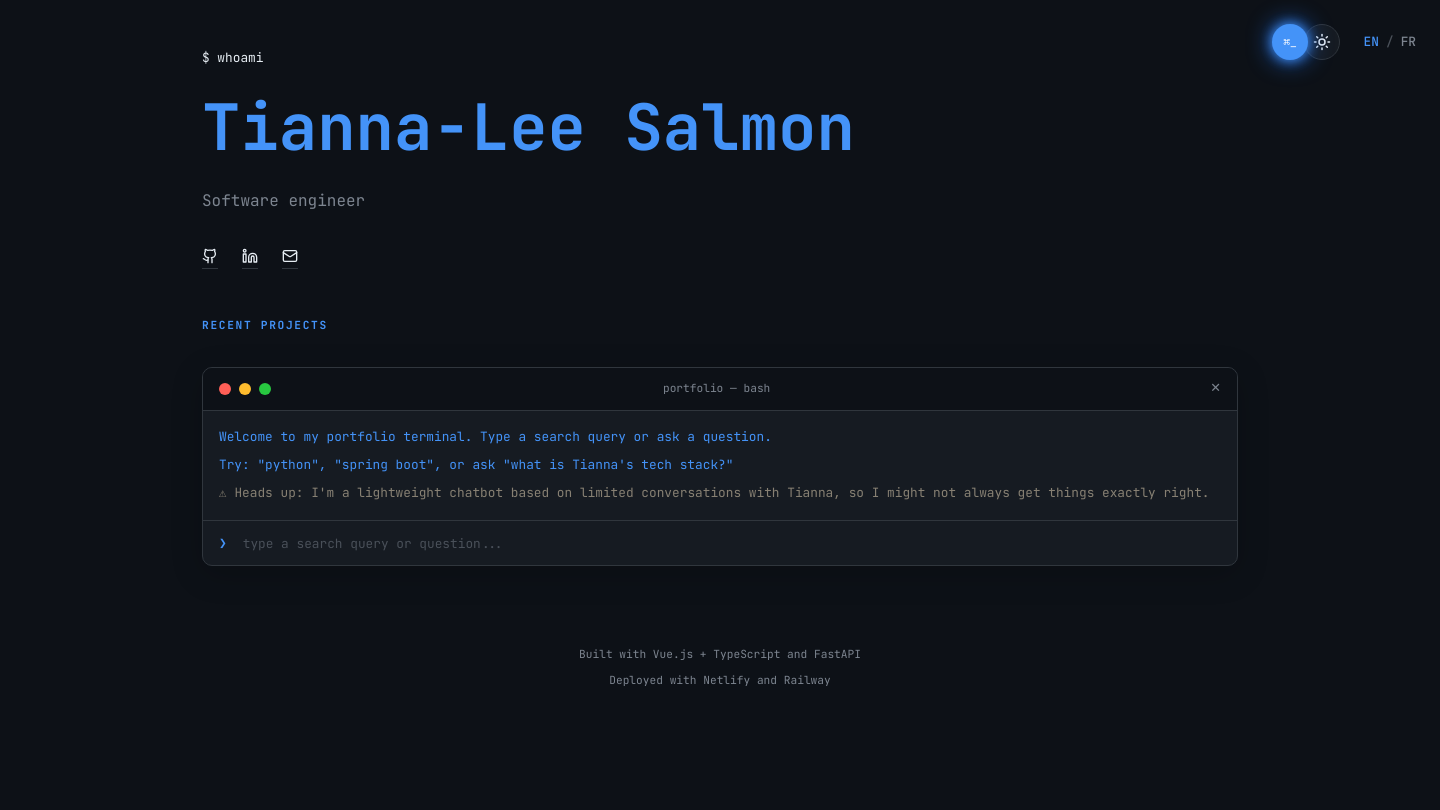
Test case: App › lets visitors retry when the chatbot is unavailable
Type "Bonjour" into the field with class "terminal__input".
click(732, 543); type("Bonjour")  # box [243, 535, 1221, 552]
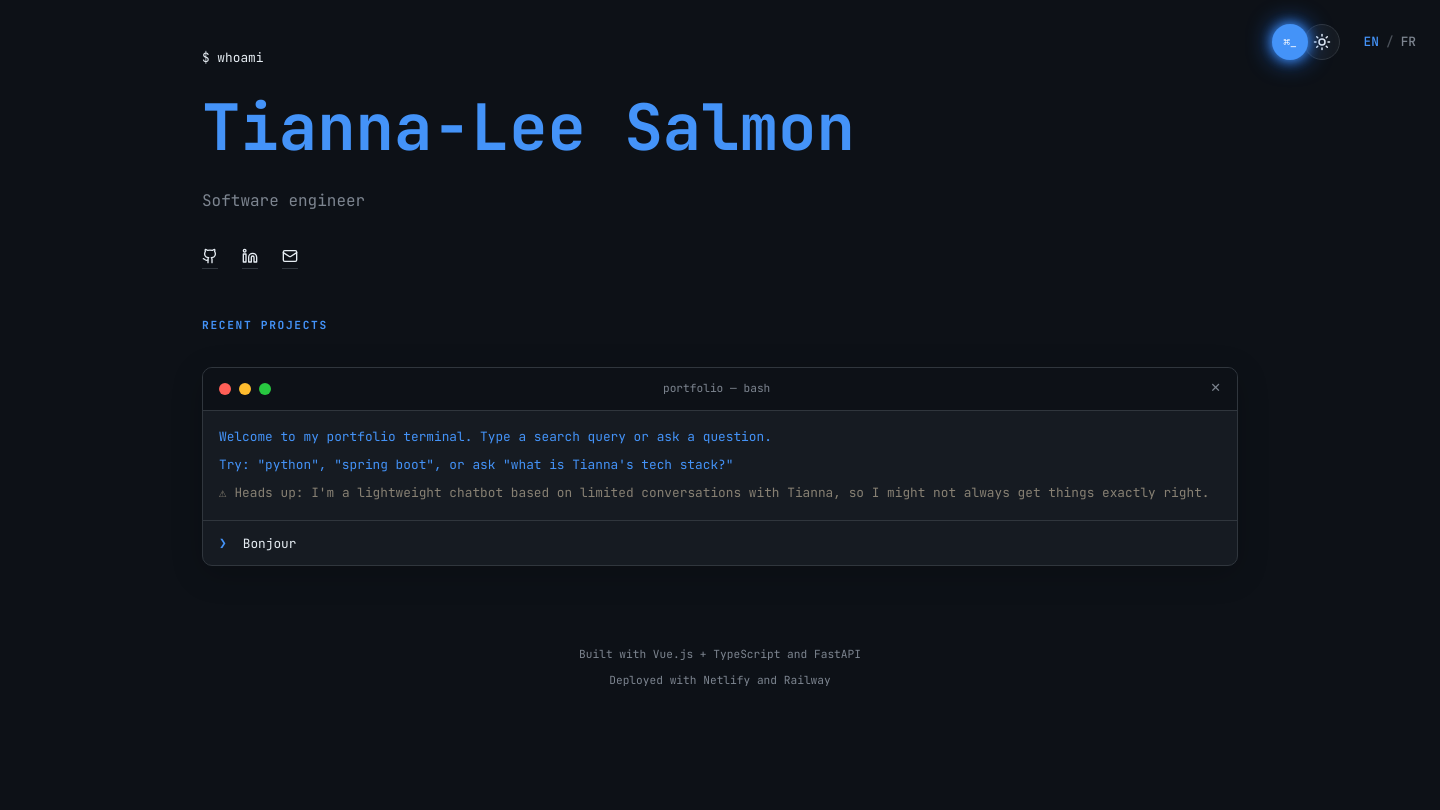
Press Enter in the field with class "terminal__input", box [243, 535, 1221, 552]
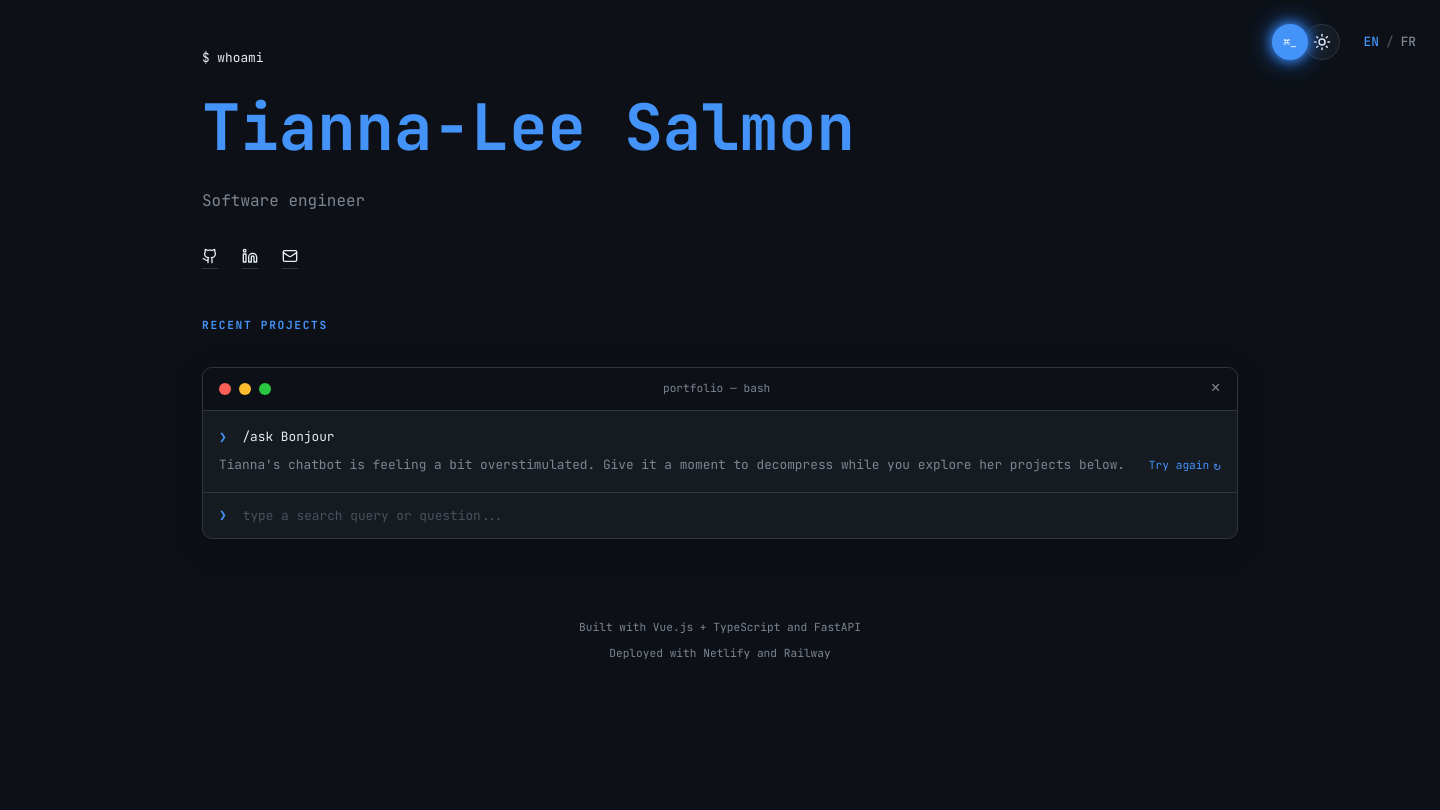
Now the text "feeling a bit overstimulated" is shown, box [219, 456, 1125, 473]
Now the button with class "terminal__retry" is shown
Click the button with class "terminal__retry".
click(1185, 466)  # box [1149, 456, 1221, 476]
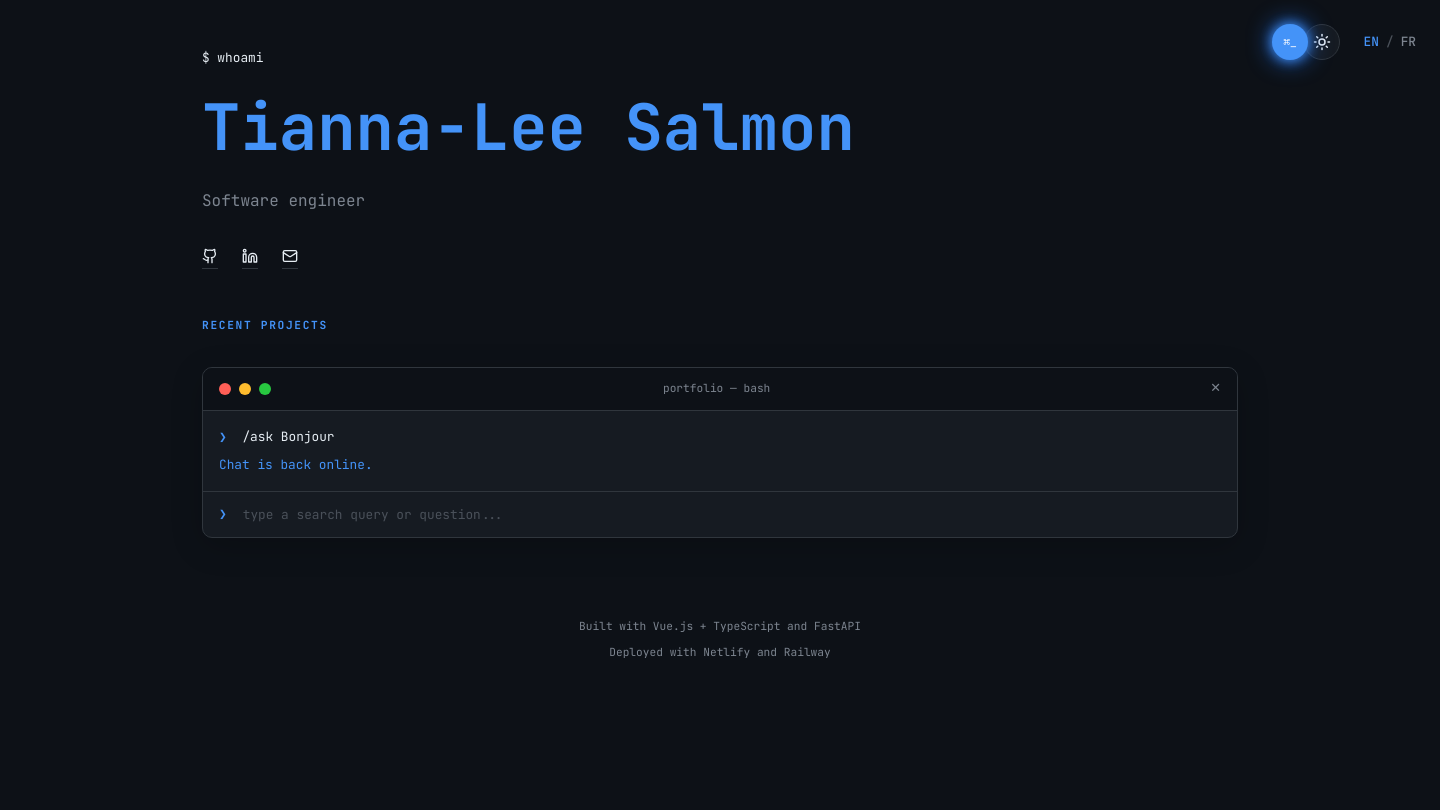
Now the text "Chat is back online." is shown, box [219, 456, 373, 473]
